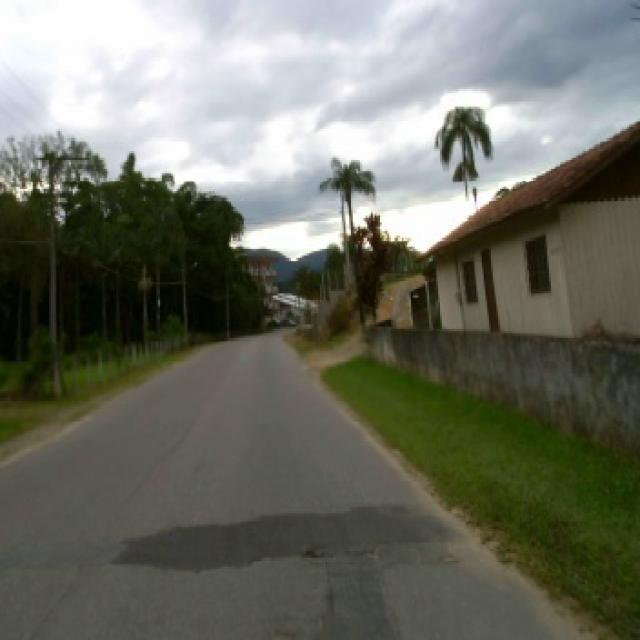Poth-hole: (296, 542, 384, 636)
